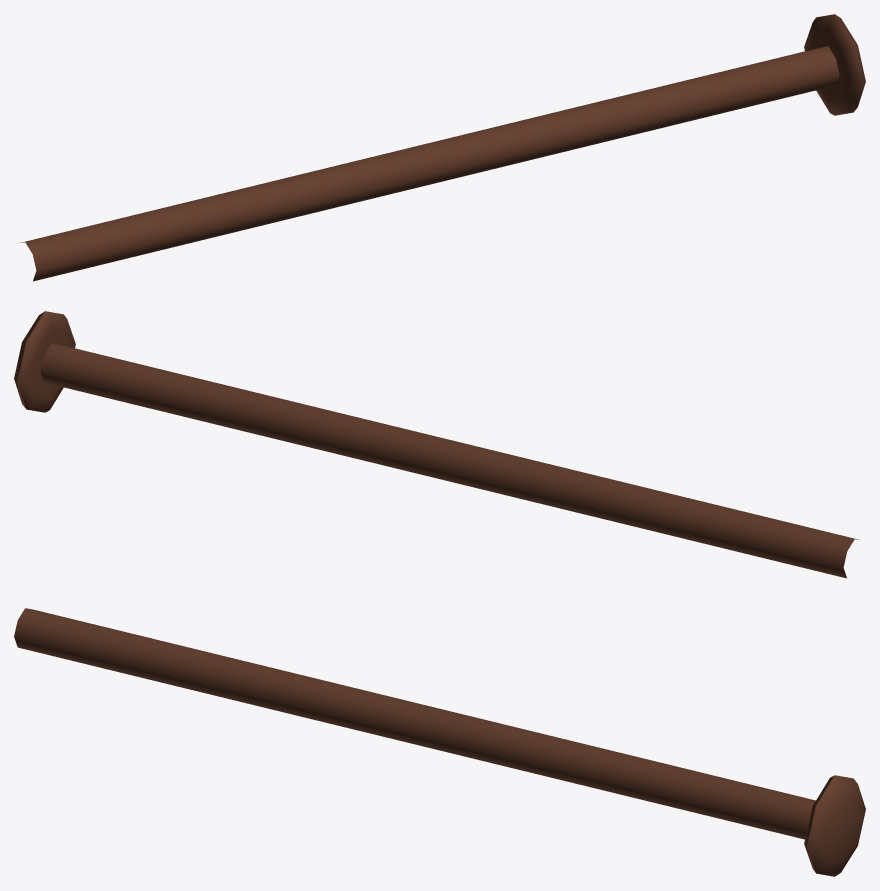
The picture shows the model from 3 angles, top to bottom: view 1: azimuth 30°, elevation 25°; view 2: azimuth 150°, elevation 25°; view 3: azimuth 330°, elevation 25°; orthographic projection.
Parts seen in each view (by area): view 1: body0_model0_lod0_mesh0; view 2: body0_model0_lod0_mesh0; view 3: body0_model0_lod0_mesh0.
Part boxes in pixels (left/top/right/bottom): body0_model0_lod0_mesh0: left=19, top=14, right=865, bottom=281; body0_model0_lod0_mesh0: left=14, top=311, right=860, bottom=578; body0_model0_lod0_mesh0: left=14, top=608, right=865, bottom=876.
Bounding box in the file's own units: 15.9 × 1.87 × 1.87.
